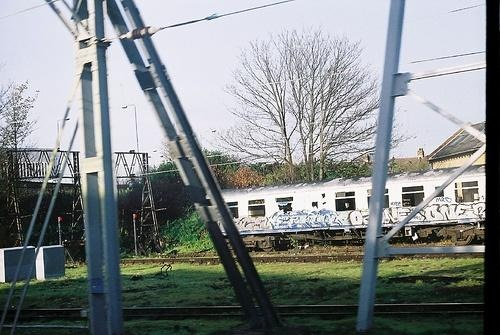train: (196, 165, 489, 247)
